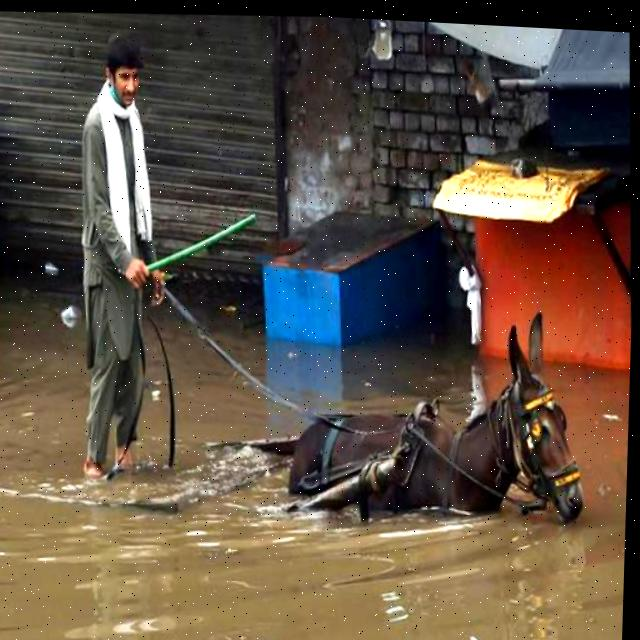civilian: (44, 14, 212, 503)
horse: (245, 274, 623, 584)
